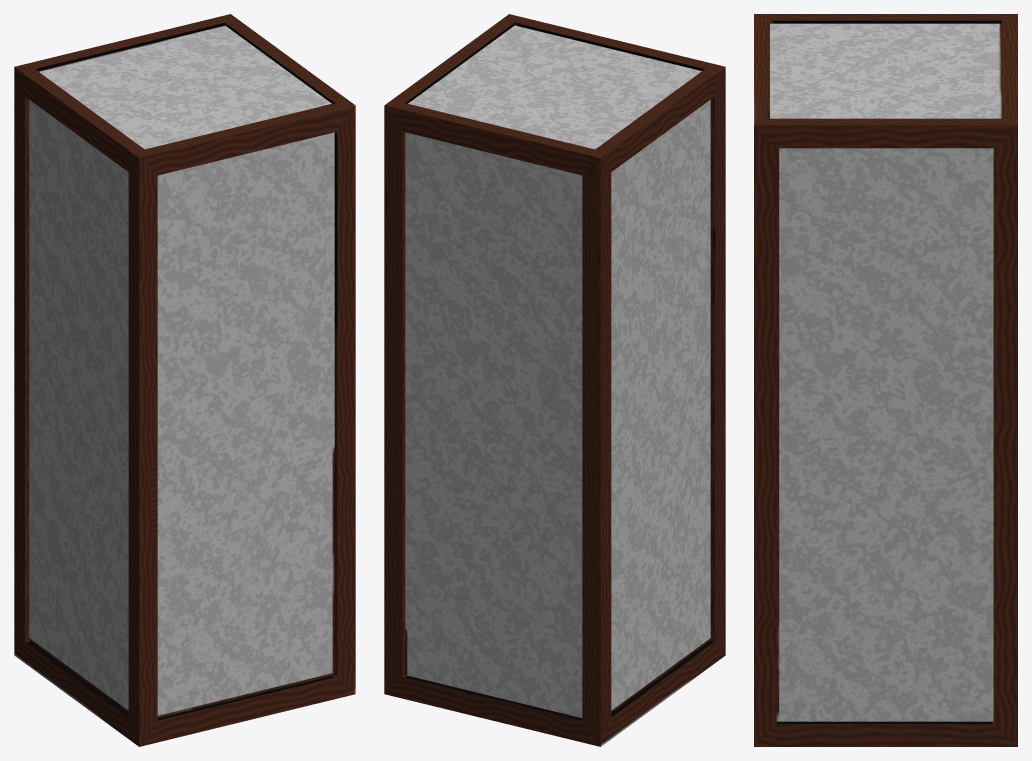
The model's file is stand.glb.
3 views of the same model, side by side, from view 1: azimuth 30°, elevation 25°; view 2: azimuth 150°, elevation 25°; view 3: azimuth 270°, elevation 25° (orthographic). The views are drawn at different scales.
Parts seen in each view (by area): view 1: Cube; view 2: Cube; view 3: Cube.
Part boxes in pixels (bbox=[...]): Cube: bbox=[14, 14, 355, 746]; Cube: bbox=[384, 14, 725, 746]; Cube: bbox=[754, 14, 1017, 746].
Bounding box in the file's own units: 5 × 13 × 5.
Materials: 1 (1 with a texture image).
